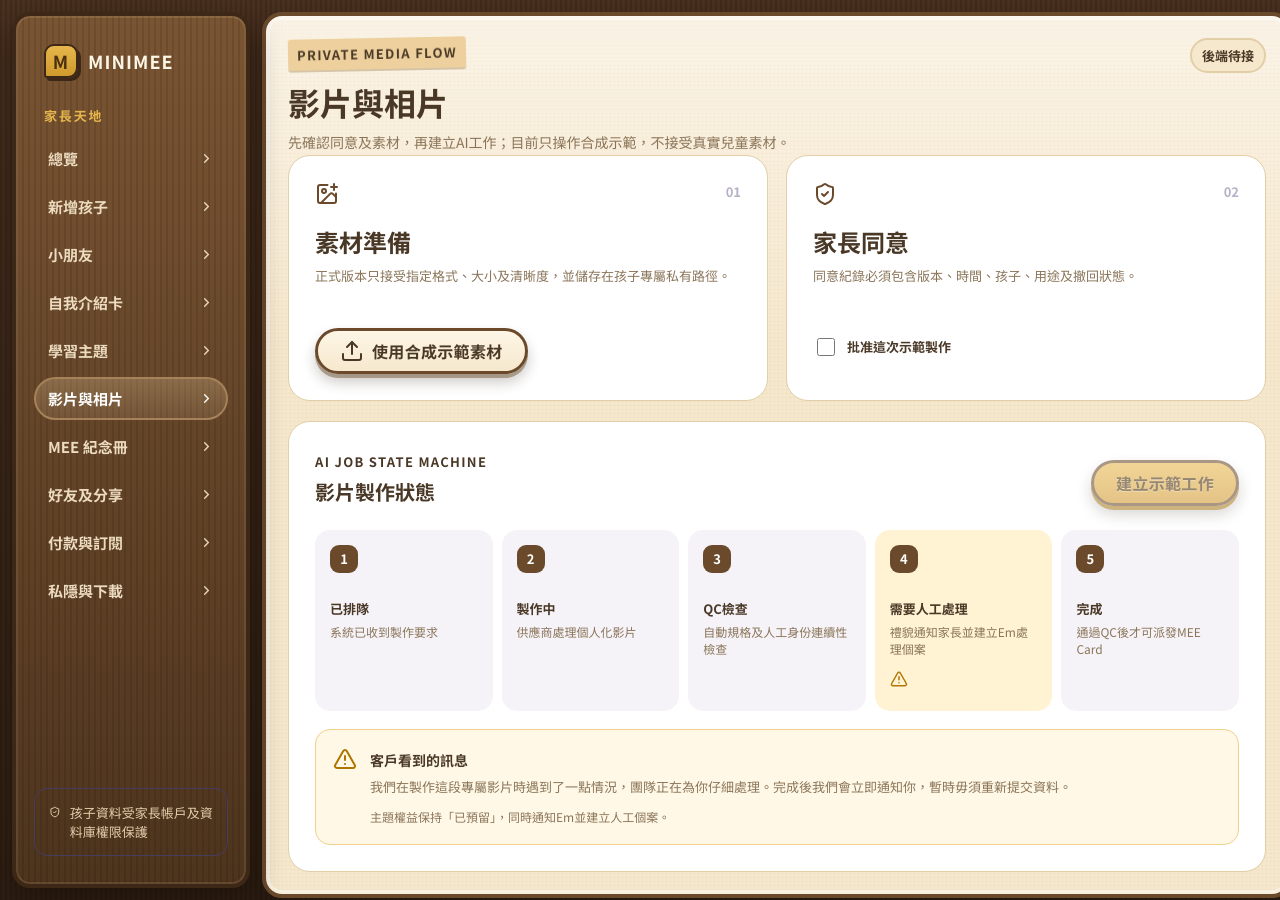
Scenario: MINIMEE route shells › keeps media creation blocked until demo asset and consent are ready
The width and height of the screenshot is (1280, 900).
Expected: the button "建立示範工作" is disabled, [1091,460,1239,506]
Click the button "使用合成示範素材". click: [421, 350]
box: [315,328,528,374]
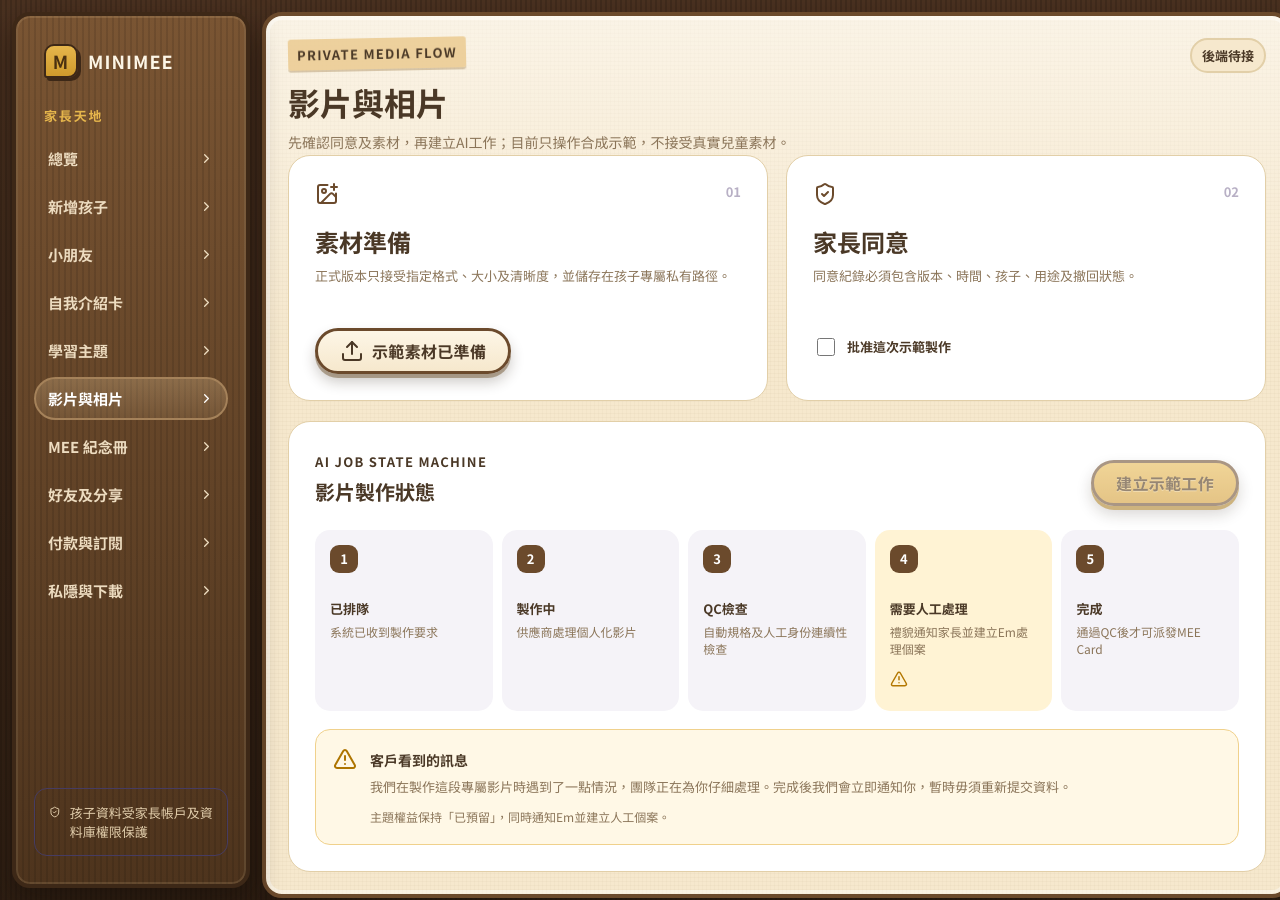
Click the checkbox. click: [826, 346]
box: [817,338,835,356]
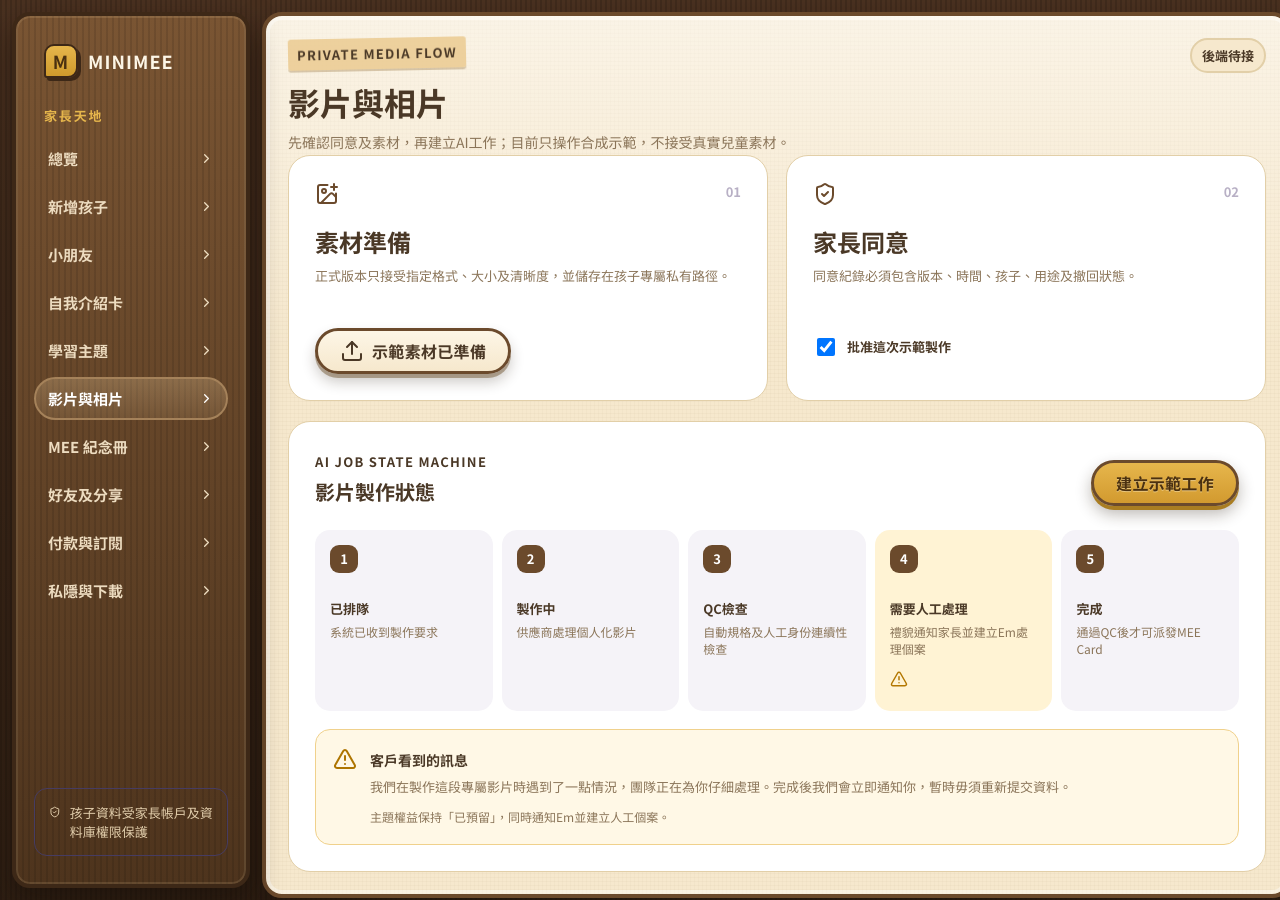
Expected: the text "主題權益保持「已預留」，同時通知Em並建立人工個案。" is shown, [370,808,670,825]
Expected: the button "建立示範工作" is enabled, [1091,460,1239,506]
